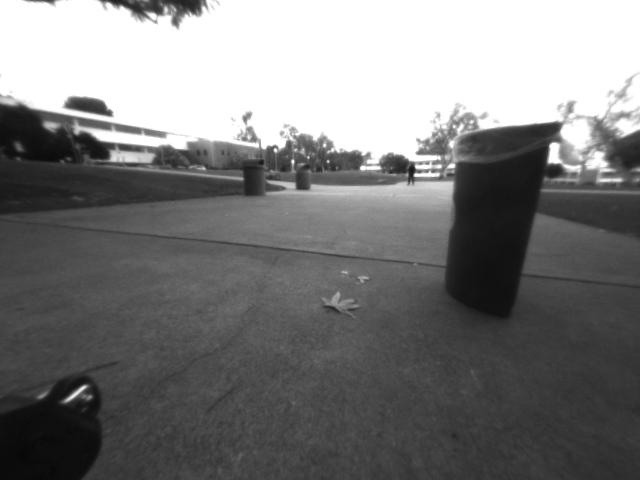trashcan: (439, 113, 570, 329)
